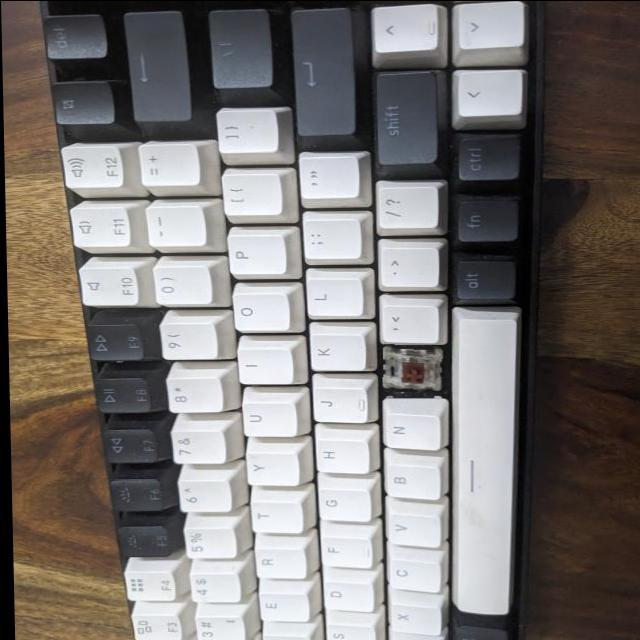key-switch: (379, 344, 443, 392)
